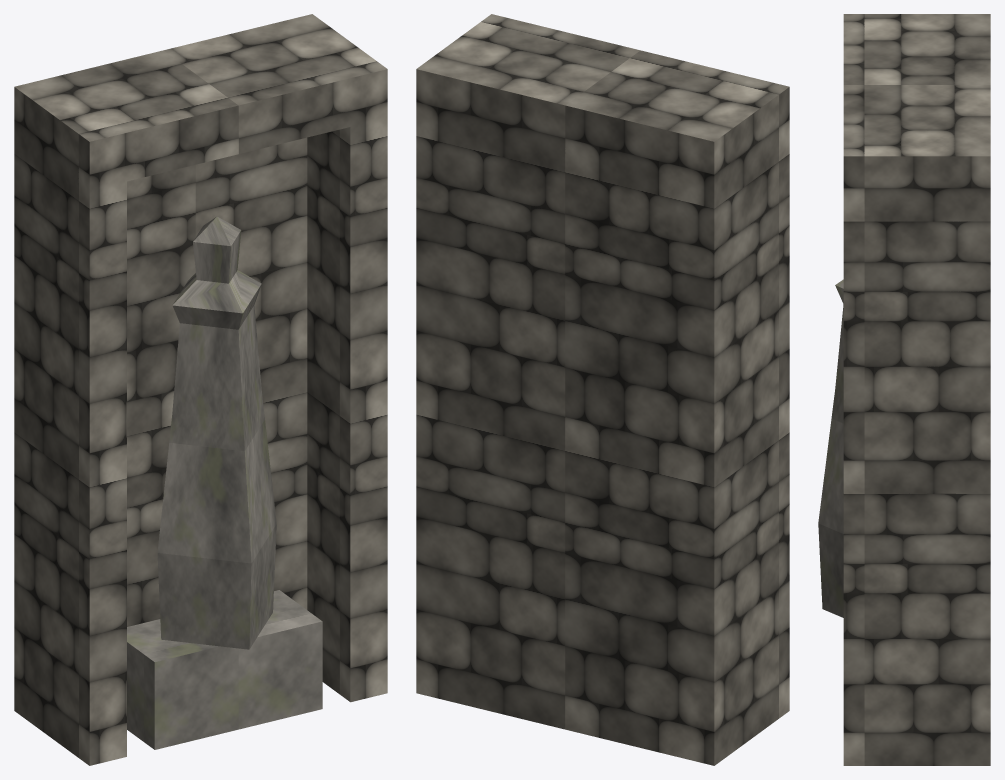
The model's file is Statue_Niche_1_LOD2.gltf.
The picture shows the model from 3 angles, left to right: view 1: azimuth 30°, elevation 25°; view 2: azimuth 150°, elevation 25°; view 3: azimuth 270°, elevation 25°; orthographic projection. The views are drawn at different scales.
Parts seen in each view (by area): view 1: Statue_Niche_1_LOD2; view 2: Statue_Niche_1_LOD2; view 3: Statue_Niche_1_LOD2.
Boxes of the visible parts, x1,y1,x2,y2 form: Statue_Niche_1_LOD2: (14,14,387,765); Statue_Niche_1_LOD2: (416,14,789,765); Statue_Niche_1_LOD2: (818,14,990,765).
Bounding box in the file's own units: 1.6 × 3.2 × 0.82.
2 materials, 2 textured.
